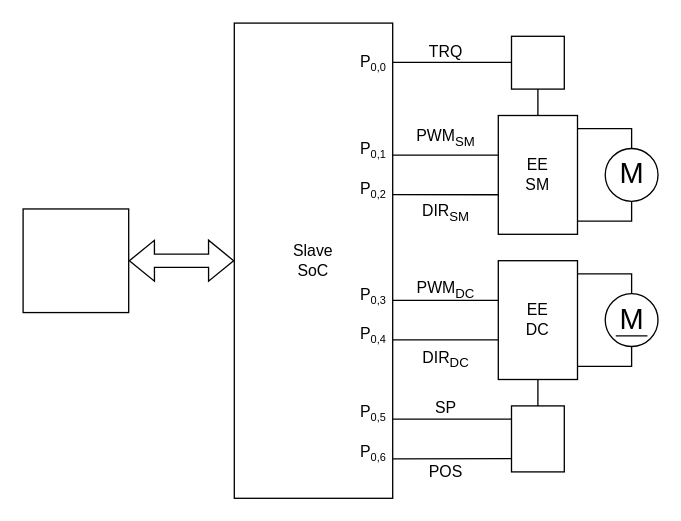
This 681x521 diagram has some shape labels left out. Each missing label, with the centre of its shape:
"OE" goes at point 537,438.
"TEMP. SENSOR" goes at point 75,260.
"TS" goes at point 537,62.
